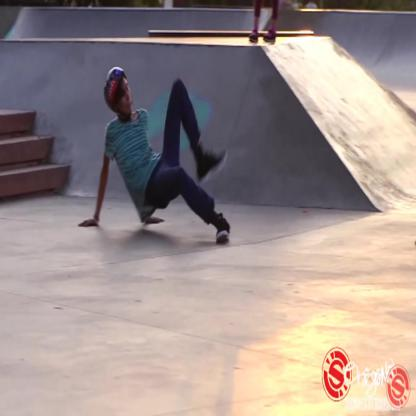Fall_Down: (77, 63, 232, 245)
